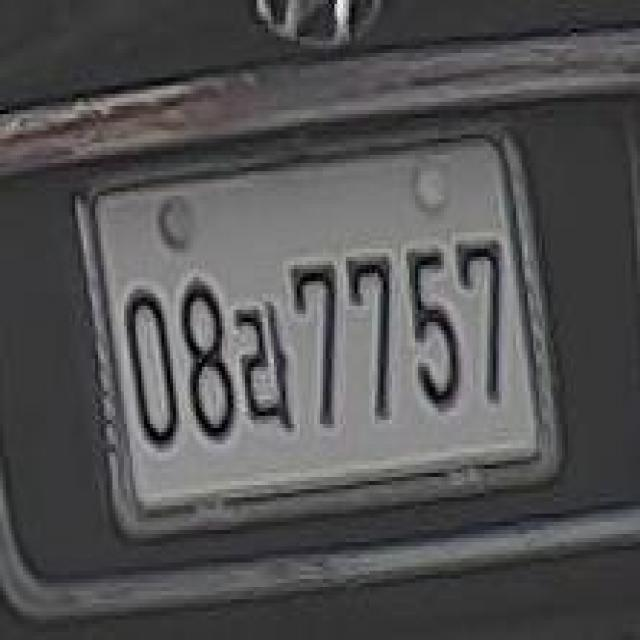illegal_plate: (88, 107, 554, 548)
